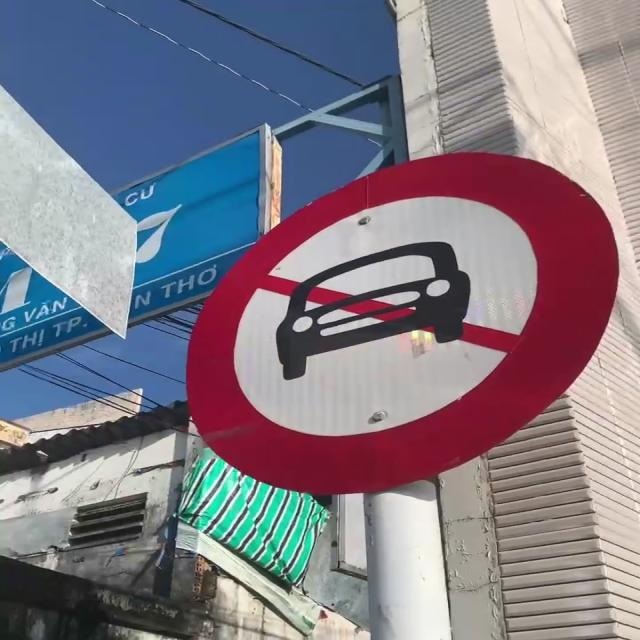Cam_O_To: (187, 150, 627, 500)
